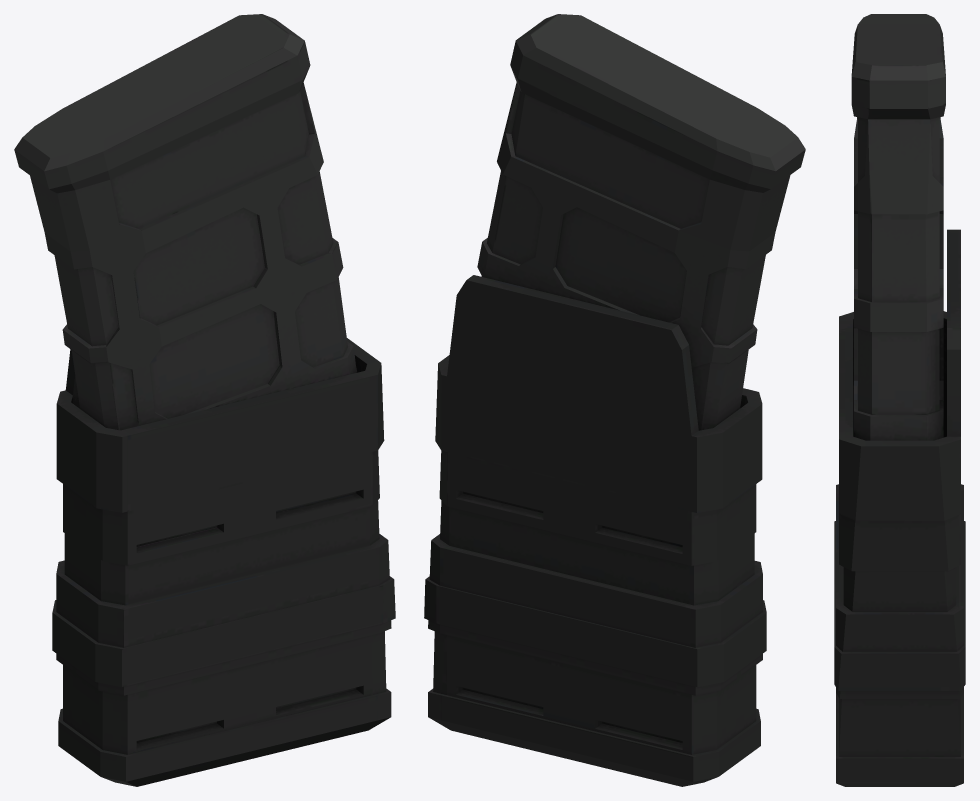
The picture shows the model from 3 angles, left to right: view 1: azimuth 30°, elevation 25°; view 2: azimuth 150°, elevation 25°; view 3: azimuth 270°, elevation 25°; orthographic projection.
Visible parts, largest first — view 1: asrvgff_0; view 2: asrvgff_0; view 3: asrvgff_0.
Boxes of the visible parts, bbox=[...] form: asrvgff_0: bbox=[14, 14, 395, 786]; asrvgff_0: bbox=[424, 14, 805, 786]; asrvgff_0: bbox=[834, 14, 965, 786].
Bounding box in the file's own units: 0.484 × 0.9678 × 0.167.
1 material, 1 textured.
